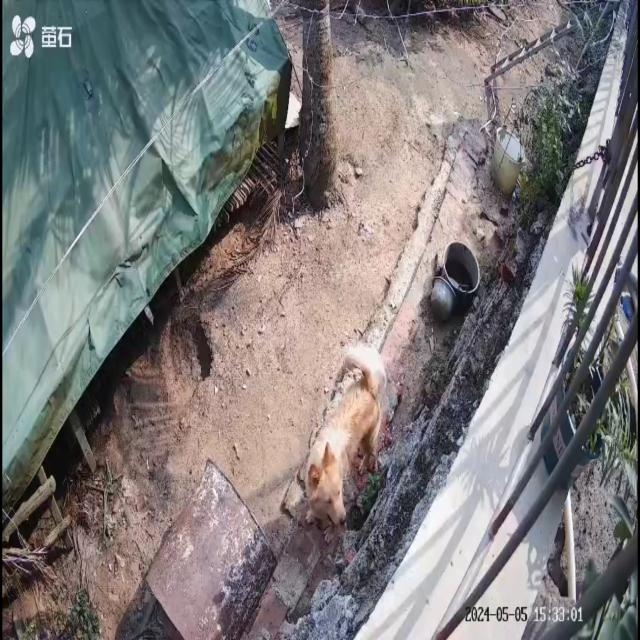dog: (305, 344, 388, 530)
